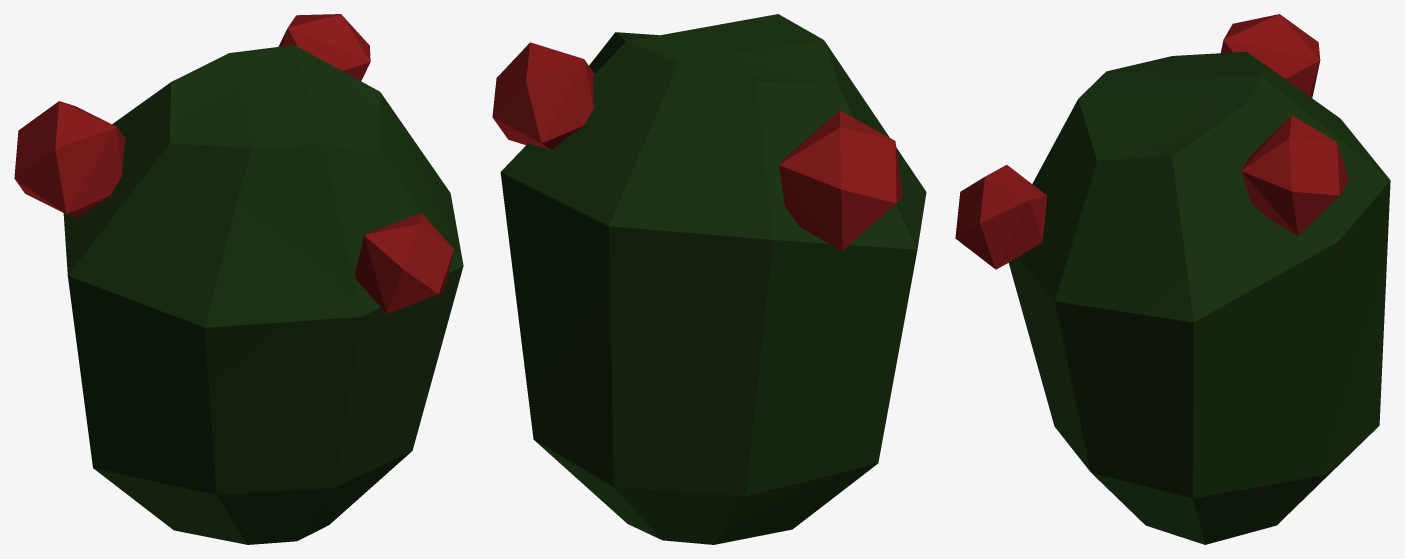
The model's file is dryTree_cactusB.FBX.
3 renders of one model, left to right at view 1: azimuth 30°, elevation 25°; view 2: azimuth 150°, elevation 25°; view 3: azimuth 270°, elevation 25°, orthographic. The views are drawn at different scales.
Parts seen in each view (by area): view 1: dryTree_cactusB; view 2: dryTree_cactusB; view 3: dryTree_cactusB.
Part boxes in pixels (x1,y1,x2,y2): dryTree_cactusB: (14, 14, 463, 544); dryTree_cactusB: (492, 14, 926, 544); dryTree_cactusB: (955, 14, 1390, 544).
Bounding box in the file's own units: 87.15 × 92.09 × 84.47.
